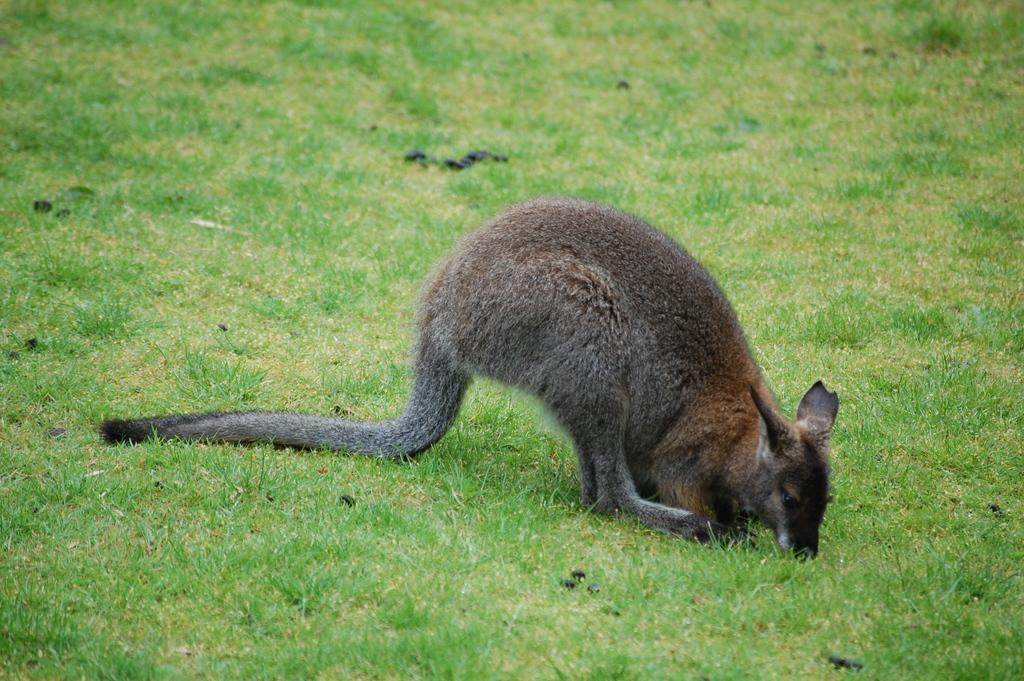kangaroo: (95, 191, 837, 562)
